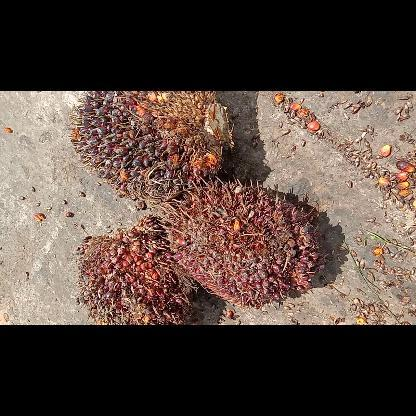Kurang masak: (74, 213, 198, 323)
TBS masak: (161, 182, 327, 310), (66, 91, 235, 207)
